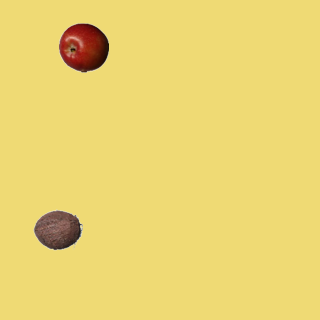Apple Braeburn: (58, 22, 108, 72)
Cocos: (32, 204, 82, 254)
